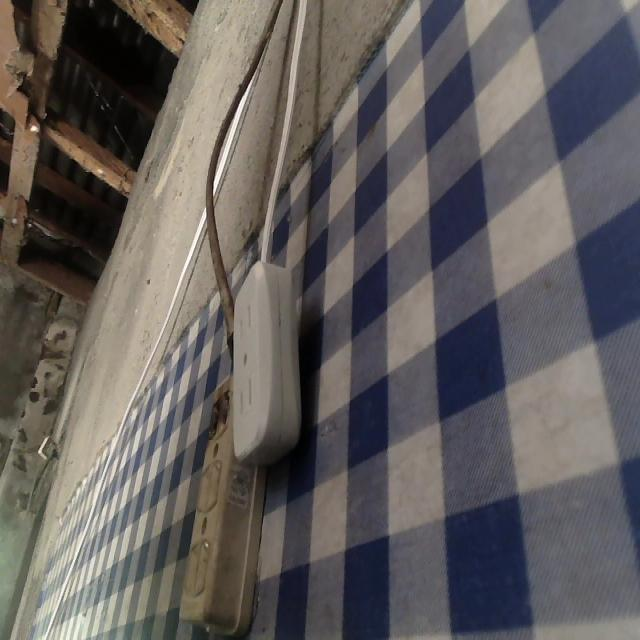-: (195, 391, 233, 437)
